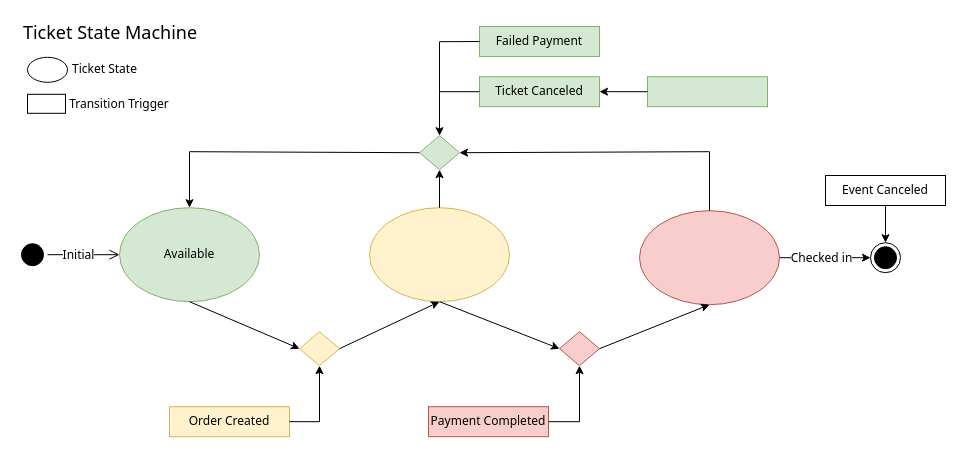
Some shapes in this 963 by 454 pixel diagram are drawn without their labels. Each missing label, with the centre of its shape:
Booked: the point at 439,254
Order Canceled: the point at 707,91
Sold: the point at 709,257
